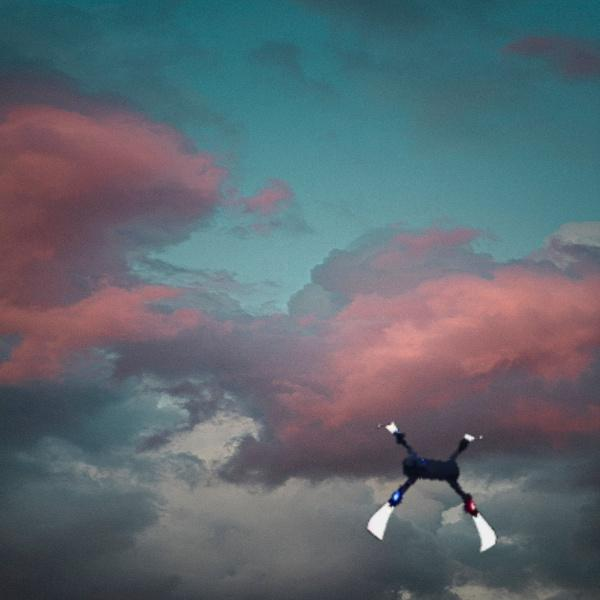drone: (359, 414, 507, 562)
